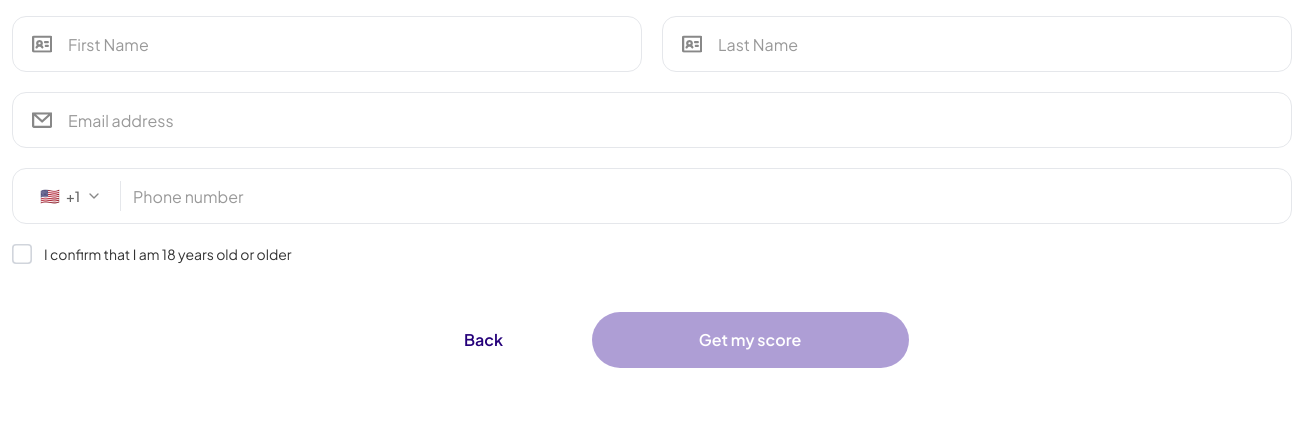
Scenario: DetailsForm › still shows an error from client-side validation
Fill only first name and email, leave phone empty
Type "Ada" into the field labelled "First Name".
click(327, 44); type("Ada")  # box [12,16,642,72]
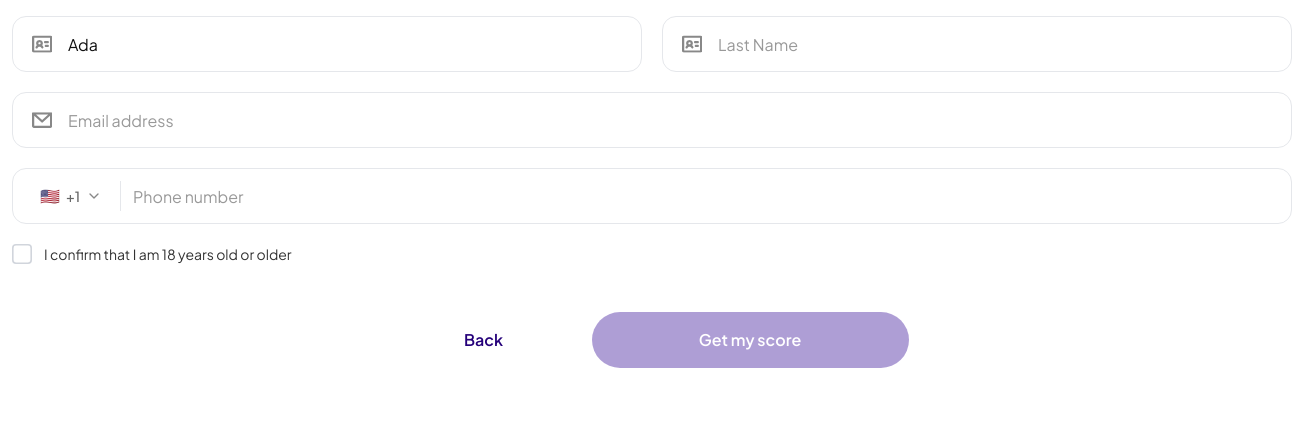
Type "ada@example.com" into the field labelled "Email address".
click(652, 120); type("ada@example.com")  # box [12,92,1292,148]
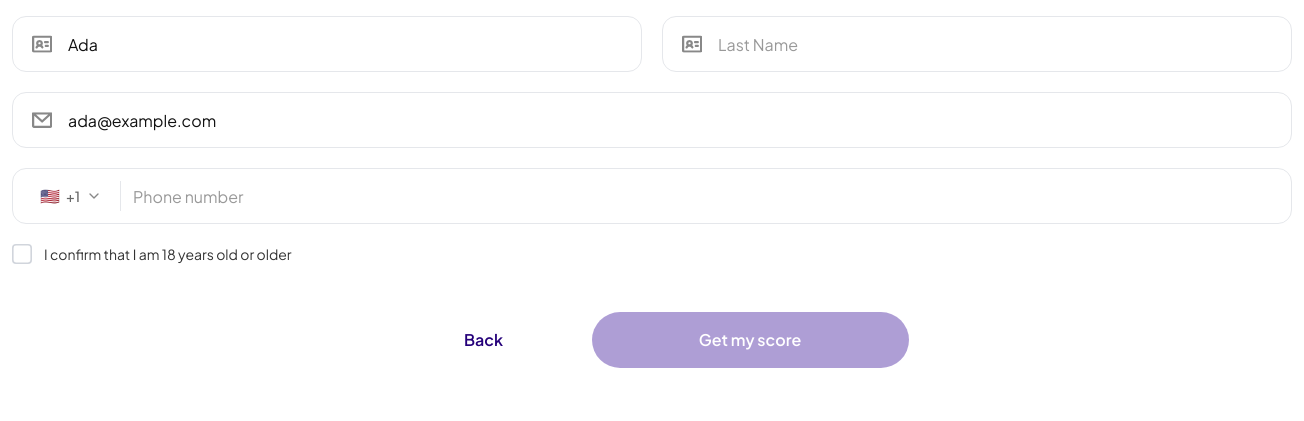
Click the checkbox labelled "I confirm that I am 18 years old or older".
click(152, 254)  # box [12,244,292,264]
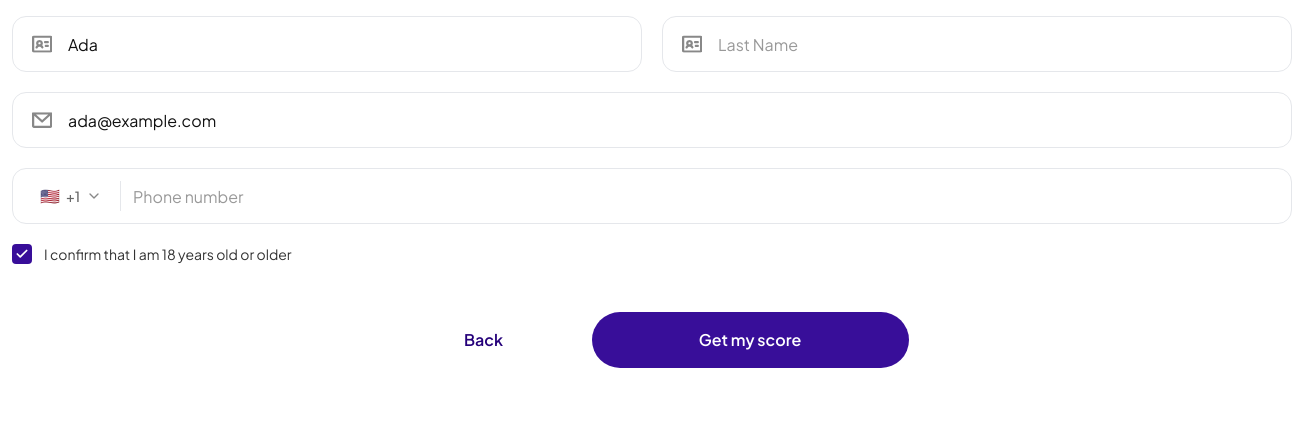
Click the button "Get my score".
click(750, 340)  # box [592,312,908,368]
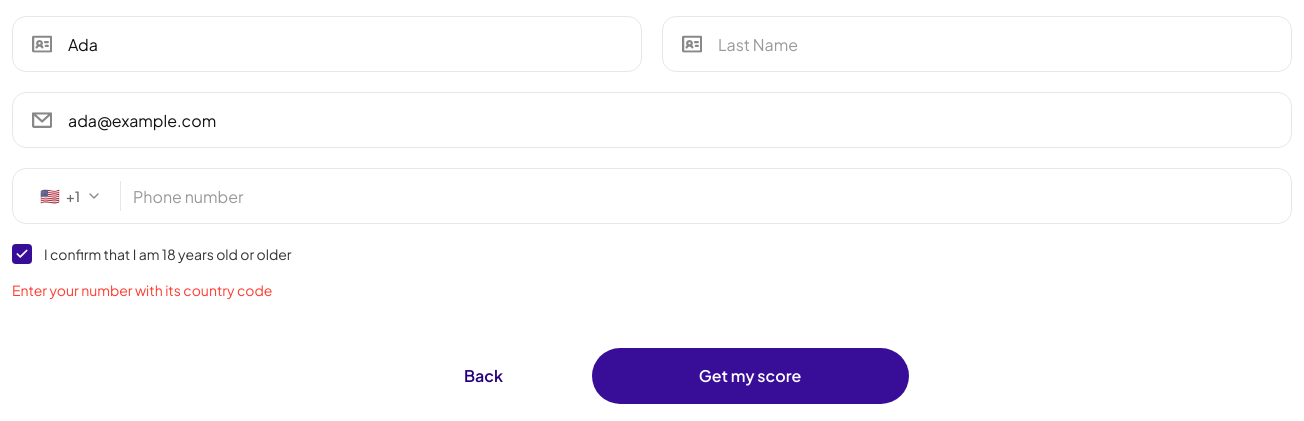
Expected: the message reads "Enter your number with its country code", [12,281,272,299]
